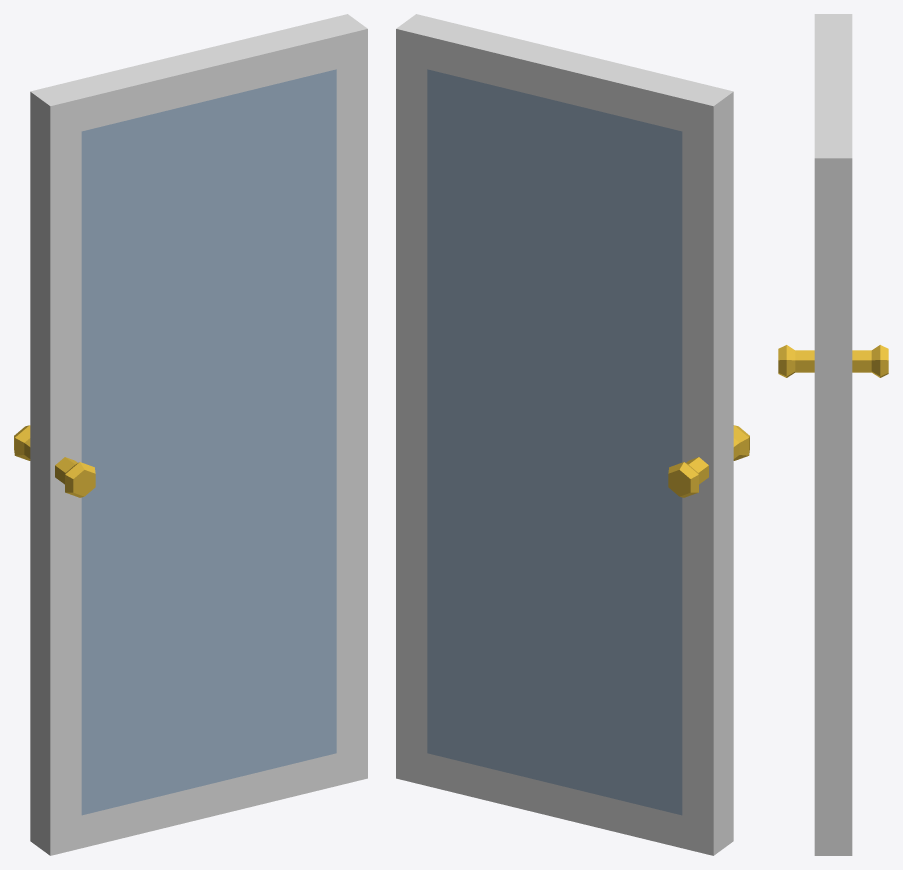
The model's file is door_glass.fbx.
The picture shows the model from 3 angles, left to right: view 1: azimuth 30°, elevation 25°; view 2: azimuth 150°, elevation 25°; view 3: azimuth 270°, elevation 25°; orthographic projection. The views are drawn at different scales.
Parts seen in each view (by area): view 1: GlassDoor; view 2: GlassDoor; view 3: GlassDoor.
Part boxes in pixels (x1,y1,x2,y2): GlassDoor: (14, 14, 367, 855); GlassDoor: (396, 14, 749, 855); GlassDoor: (778, 14, 888, 855).
Bounding box in the file's own units: 202 × 456 × 65.39.
